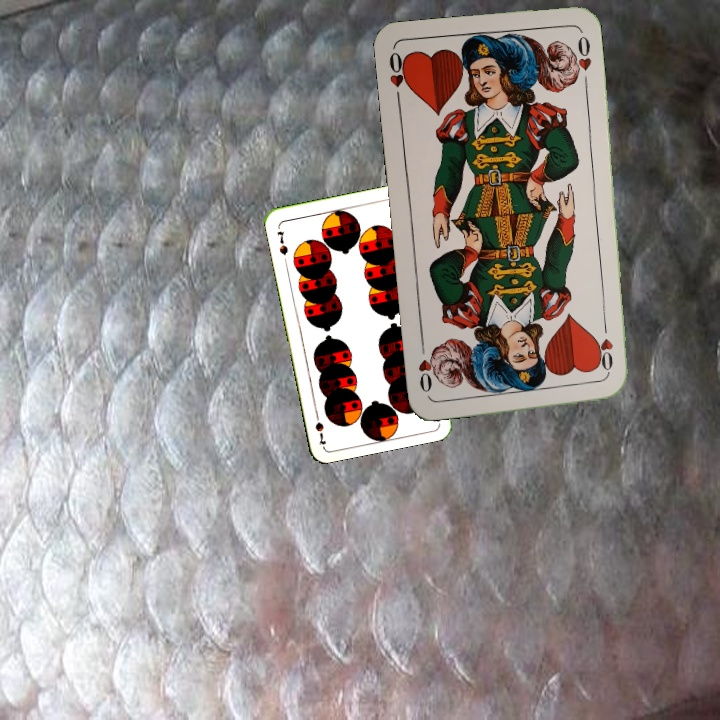HO: (385, 48, 412, 106), (595, 318, 616, 378)
S7: (273, 227, 291, 258)
